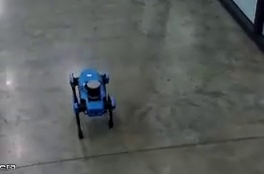robot dog: (67, 66, 119, 140)
